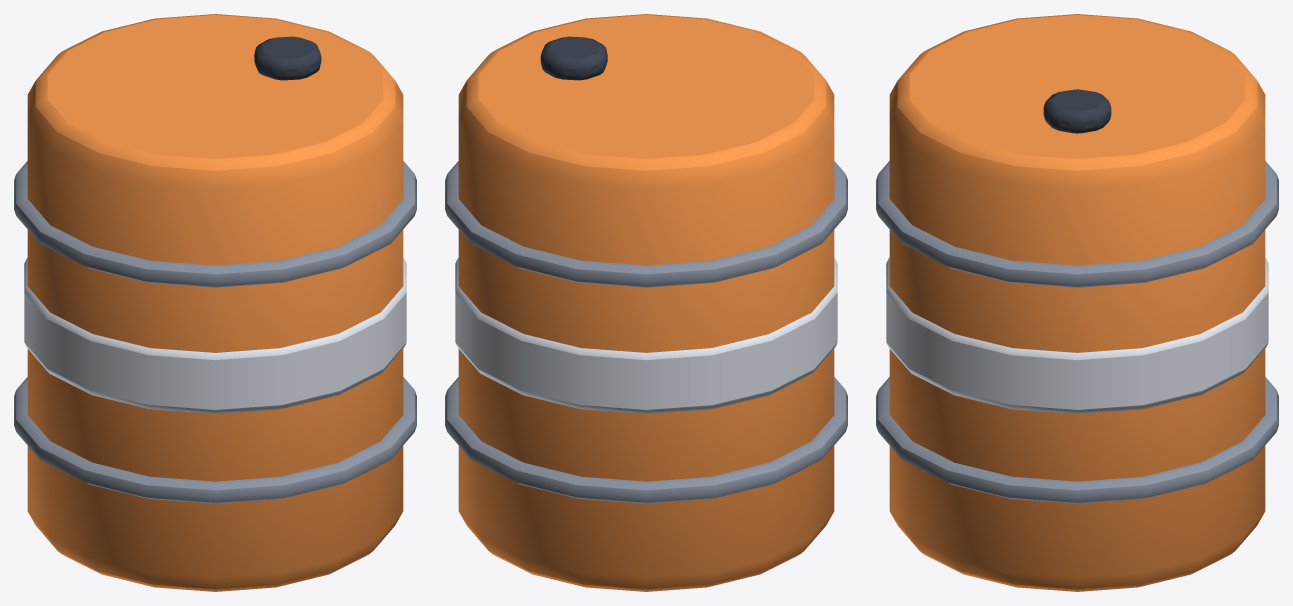
The model's file is ware_treibstoff.fbx.
3 views of the same model, side by side, from view 1: azimuth 30°, elevation 25°; view 2: azimuth 150°, elevation 25°; view 3: azimuth 270°, elevation 25° (orthographic).
Parts seen in each view (by area): view 1: ware_treibstoff_Koerper; view 2: ware_treibstoff_Koerper; view 3: ware_treibstoff_Koerper.
Boxes of the visible parts, <box> form: ware_treibstoff_Koerper: <box>14,14,416,591</box>; ware_treibstoff_Koerper: <box>445,14,847,591</box>; ware_treibstoff_Koerper: <box>876,14,1278,591</box>.
Size of the model in its own units: 0.3432 by 0.42 by 0.338.
